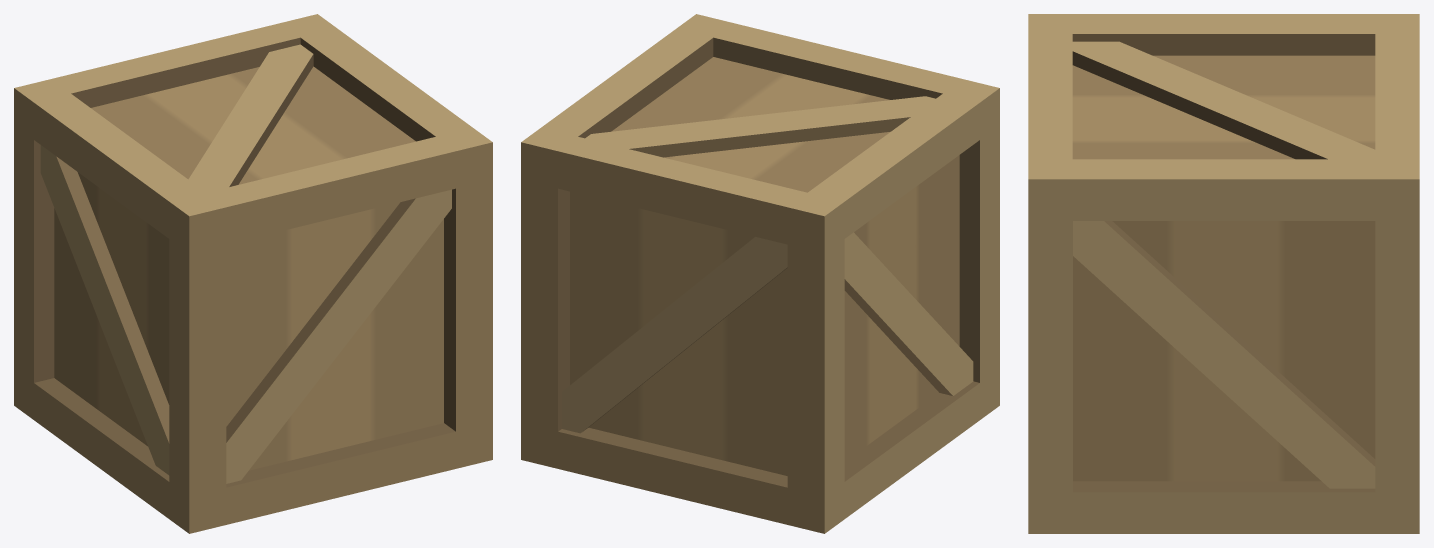
Rendered from SM_Prop_Crate_02.fbx.
3 renders of one model, left to right at view 1: azimuth 30°, elevation 25°; view 2: azimuth 150°, elevation 25°; view 3: azimuth 270°, elevation 25°, orthographic. The views are drawn at different scales.
Parts seen in each view (by area): view 1: SM_Prop_Crate_02; view 2: SM_Prop_Crate_02; view 3: SM_Prop_Crate_02.
Boxes of the visible parts, x1,y1,x2,y2 form: SM_Prop_Crate_02: [14, 14, 492, 533]; SM_Prop_Crate_02: [521, 14, 999, 533]; SM_Prop_Crate_02: [1028, 14, 1419, 533].
Size of the model in its own units: 1.55 by 1.55 by 1.55.
